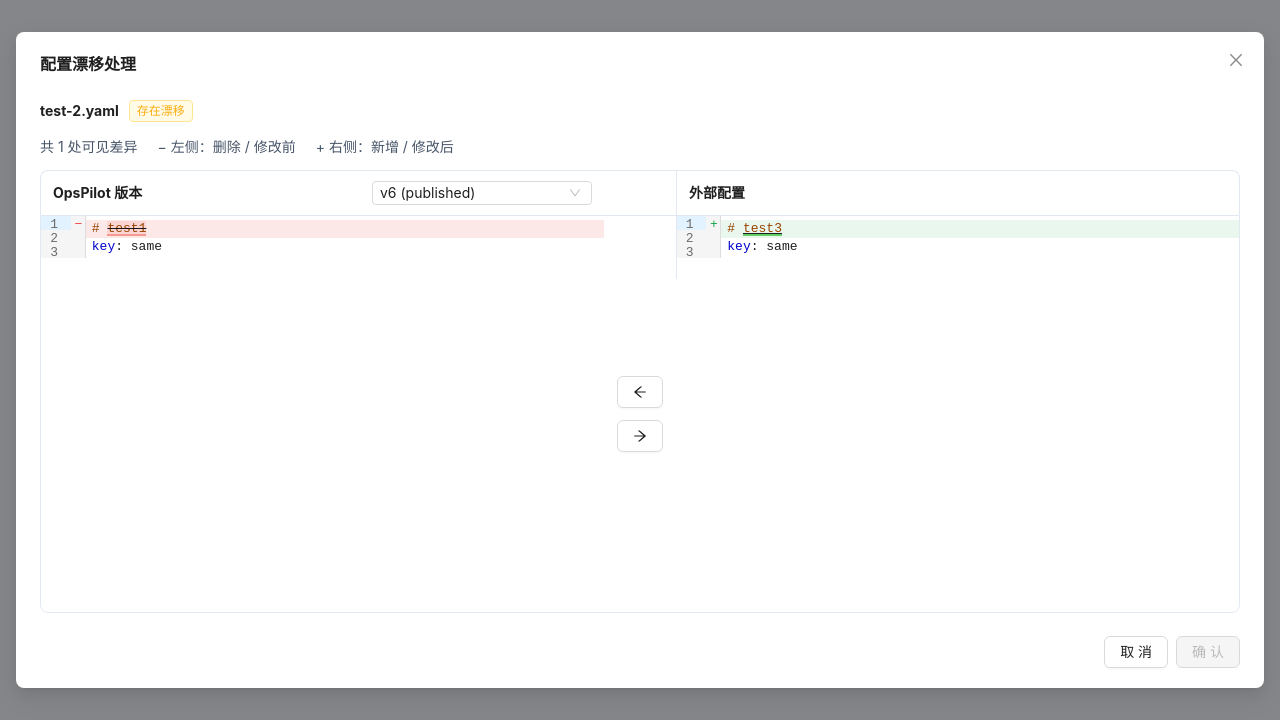
Test: 漂移确认 › 注释漂移高亮双方差异，选择导入后按覆盖预览重新比较
Expected: the element with class "cm-changedText" shows "1", [107,221,146,236]
Expected: the element with class "cm-changedText" shows "3", [743,221,782,236]
Click the button named "导入外部内容为新版本" at [640, 392], box [617,376,663,408]
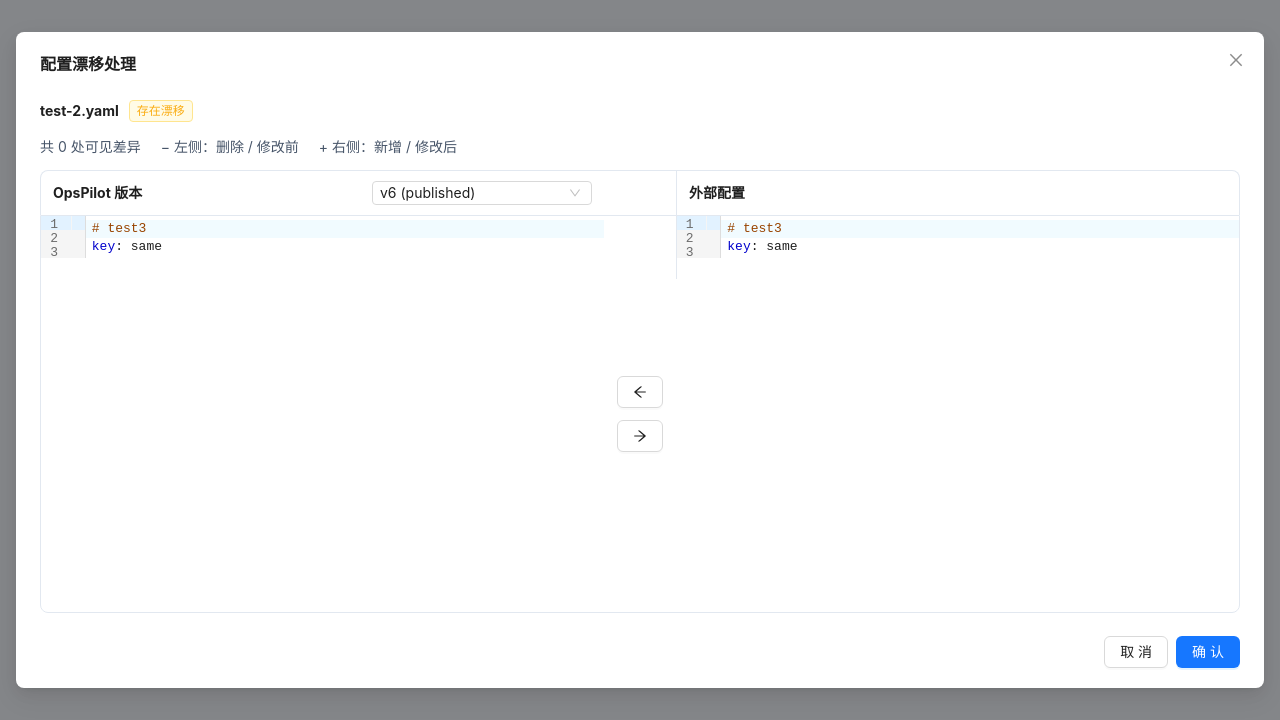
Expected: no elements with class "cm-changedLine" are shown
Expected: the 1st field with class "cm-content" shows "# test3", [92,221,146,236]
Expected: the 2nd field with class "cm-content" shows "# test3", [727,221,782,236]
